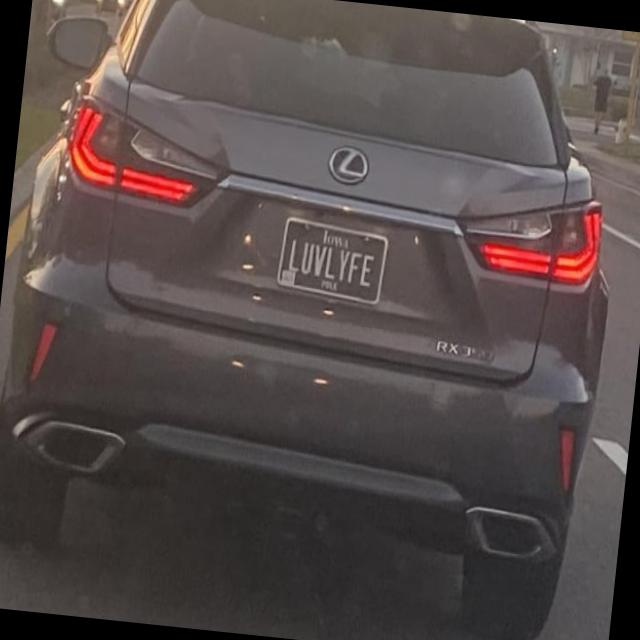LicensePlate: (274, 214, 389, 309)
